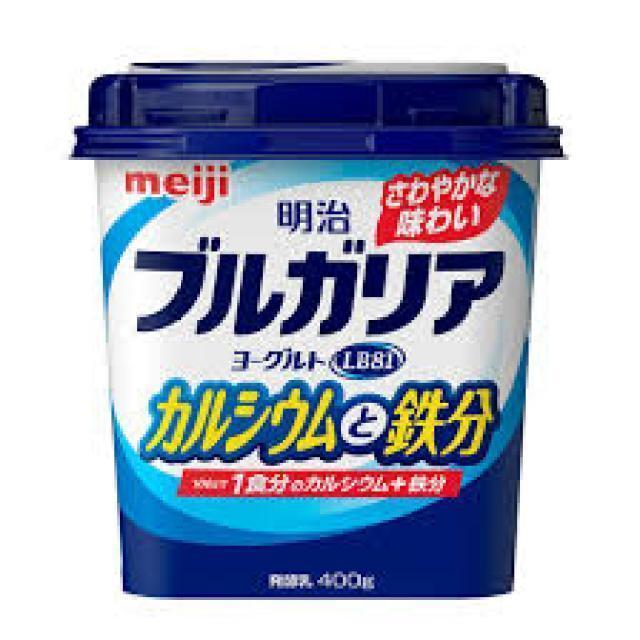Plastic: (72, 57, 564, 598)
